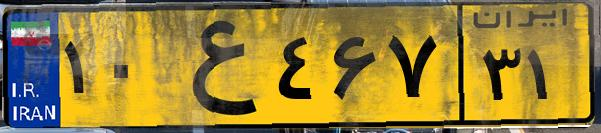0: (110, 28, 158, 98)
1: (57, 26, 110, 100), (525, 38, 570, 115)
3: (475, 38, 525, 113)
4: (270, 28, 330, 110)
6: (330, 28, 385, 110)
7: (385, 28, 445, 110)
ع: (158, 12, 270, 120)
